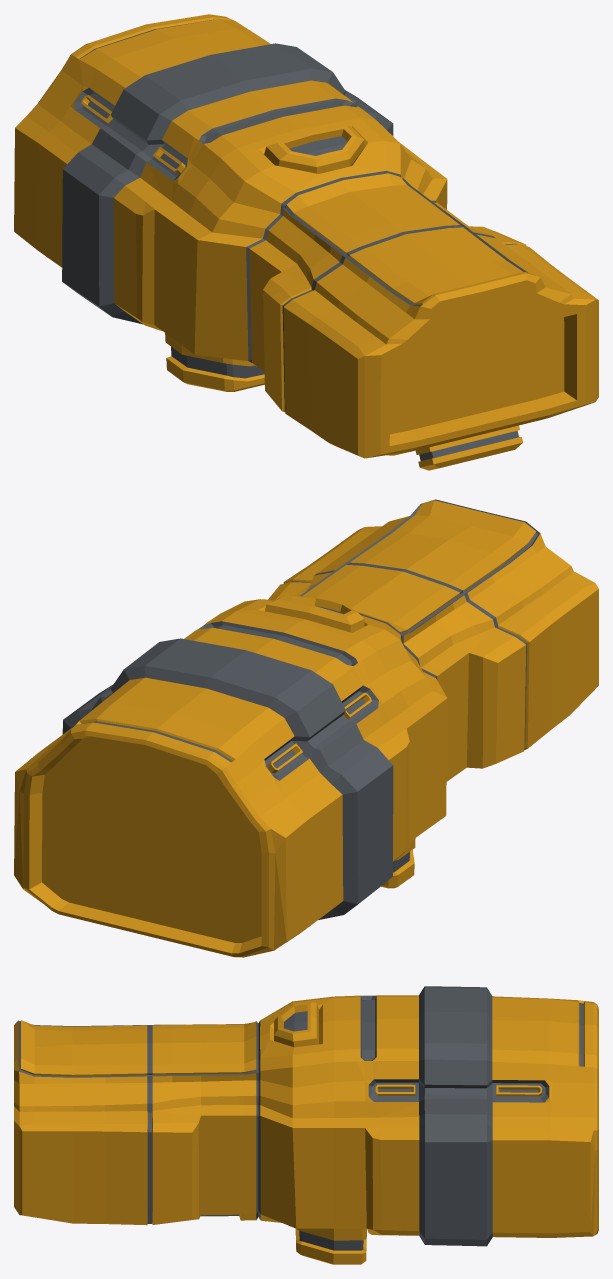
Rendered from Fighter_10_Rear_Body_Yellow.fbx.
3 renders of one model, top to bottom at view 1: azimuth 30°, elevation 25°; view 2: azimuth 150°, elevation 25°; view 3: azimuth 270°, elevation 25°, orthographic. The views are drawn at different scales.
Parts seen in each view (by area): view 1: Fighter_10_Rear_Body_Yellow; view 2: Fighter_10_Rear_Body_Yellow; view 3: Fighter_10_Rear_Body_Yellow.
Boxes of the visible parts, x1,y1,x2,y2 form: Fighter_10_Rear_Body_Yellow: (14, 14, 598, 470); Fighter_10_Rear_Body_Yellow: (14, 499, 598, 957); Fighter_10_Rear_Body_Yellow: (14, 986, 598, 1264).
Bounding box in the file's own units: 1046 × 803 × 2066.
Materials: 2 (2 with a texture image).
